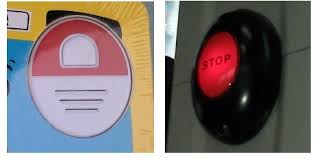bell: (188, 7, 288, 149)
